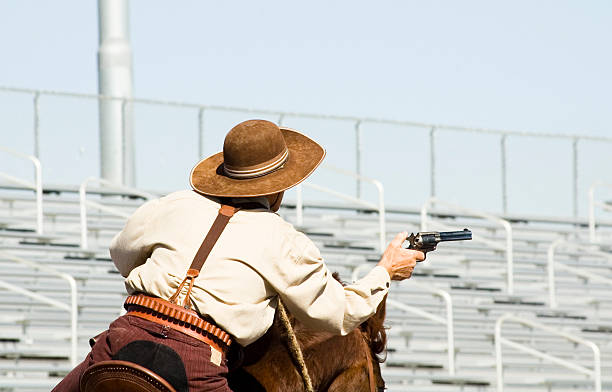gun: (404, 229, 475, 261)
